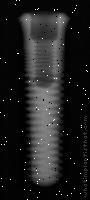Implant Direct: (18, 12, 70, 188)
